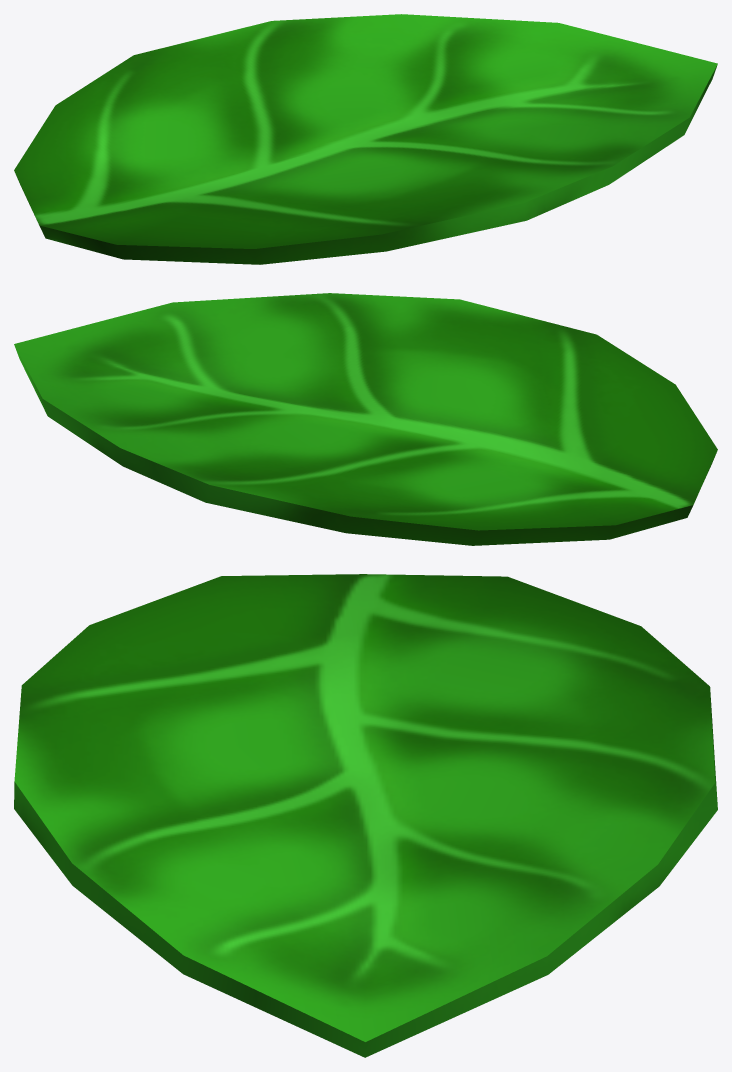
Rendered from Basil.fbx.
3 renders of one model, top to bottom at view 1: azimuth 30°, elevation 25°; view 2: azimuth 150°, elevation 25°; view 3: azimuth 270°, elevation 25°, orthographic. The views are drawn at different scales.
Parts seen in each view (by area): view 1: Basil; view 2: Basil; view 3: Basil.
Part boxes in pixels (x1,y1,x2,y2): Basil: (14,14,717,264); Basil: (14,293,717,545); Basil: (14,574,717,1057).
Size of the model in its own units: 27.79 by 1.77 by 17.89.
